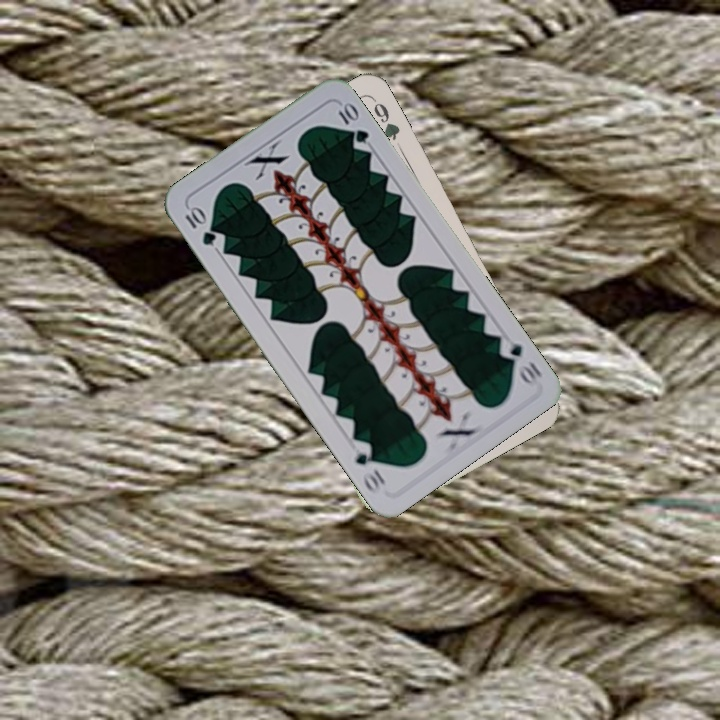G10: (494, 333, 545, 387), (181, 202, 219, 248)
